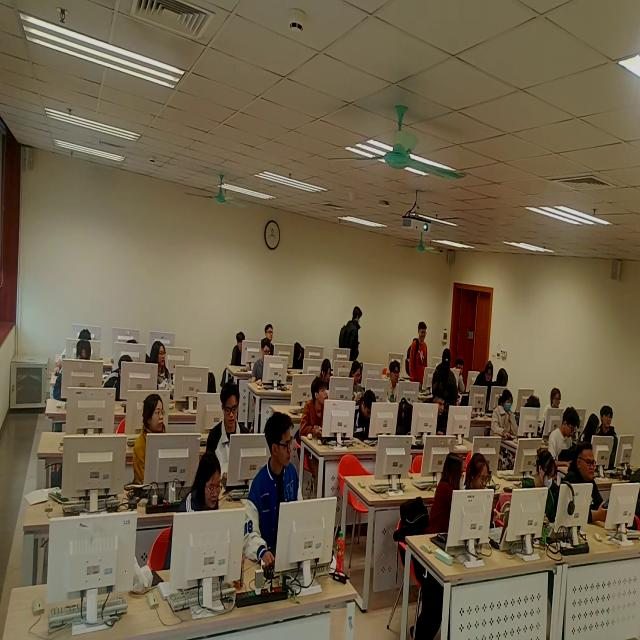raise_head: (242, 410, 309, 583), (564, 440, 610, 524), (131, 394, 169, 491), (299, 372, 329, 440), (151, 333, 177, 396), (599, 403, 620, 465), (385, 358, 402, 405), (544, 386, 562, 430), (456, 355, 471, 392)
stand: (407, 316, 430, 386), (433, 346, 457, 407), (340, 302, 364, 361), (477, 354, 493, 395)
using_computer: (169, 454, 226, 569), (207, 381, 249, 486), (518, 443, 559, 527), (51, 338, 94, 400), (547, 403, 579, 458), (108, 355, 136, 404), (493, 388, 519, 438), (253, 337, 275, 387), (356, 392, 377, 444), (428, 391, 450, 437), (526, 396, 546, 441), (581, 408, 600, 451), (231, 328, 248, 367), (350, 359, 365, 395), (320, 357, 334, 390), (295, 343, 304, 369)
